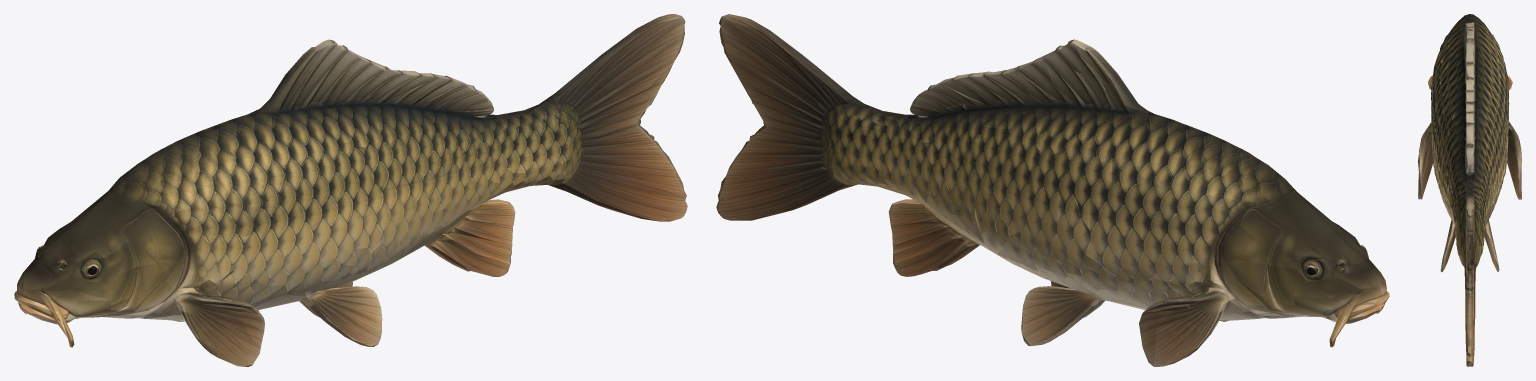
Rendered from fishCarp.glb.
The picture shows the model from 3 angles, left to right: view 1: azimuth 30°, elevation 25°; view 2: azimuth 150°, elevation 25°; view 3: azimuth 270°, elevation 25°; orthographic projection. The views are drawn at different scales.
Parts seen in each view (by area): view 1: Mesh_0; view 2: Mesh_0; view 3: Mesh_0.
Part boxes in pixels (x1,y1,x2,y2): Mesh_0: [14, 14, 687, 366]; Mesh_0: [716, 14, 1389, 366]; Mesh_0: [1418, 14, 1521, 366].
Bounding box in the file's own units: 0.4 × 0.1705 × 0.0681.
Materials: 1 (1 with a texture image).
